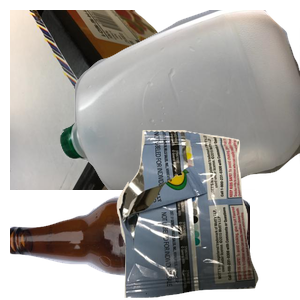cardboard: (10, 10, 238, 190)
glass: (10, 188, 250, 300)
plastic: (60, 10, 300, 190)
trash: (114, 130, 300, 300)
